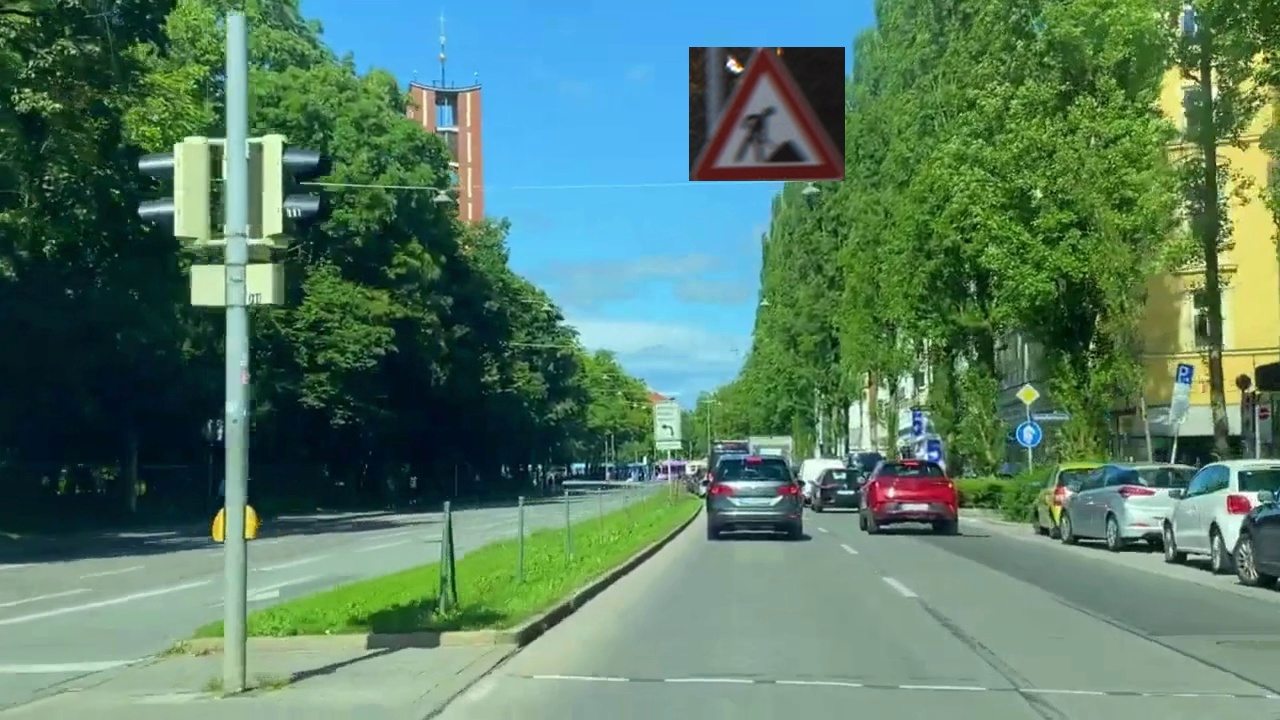Road work: (689, 47, 845, 181)
